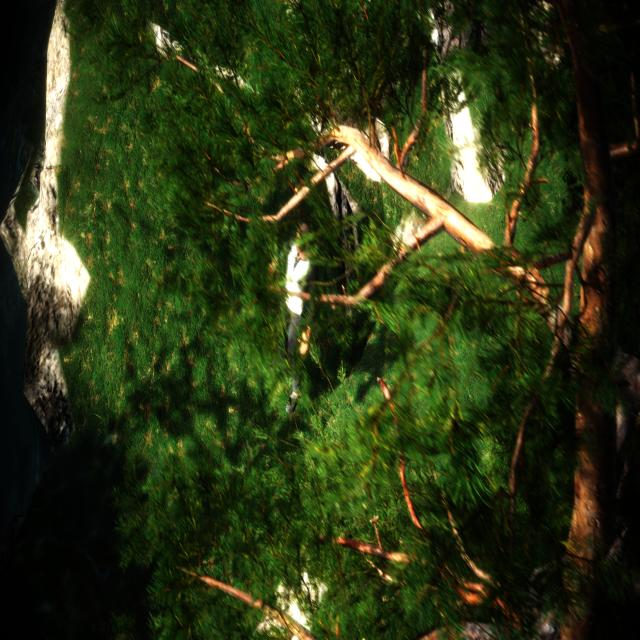Human: (265, 205, 316, 418)
